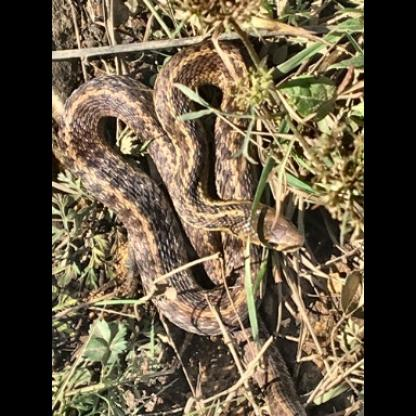Snake: (63, 42, 305, 337)
